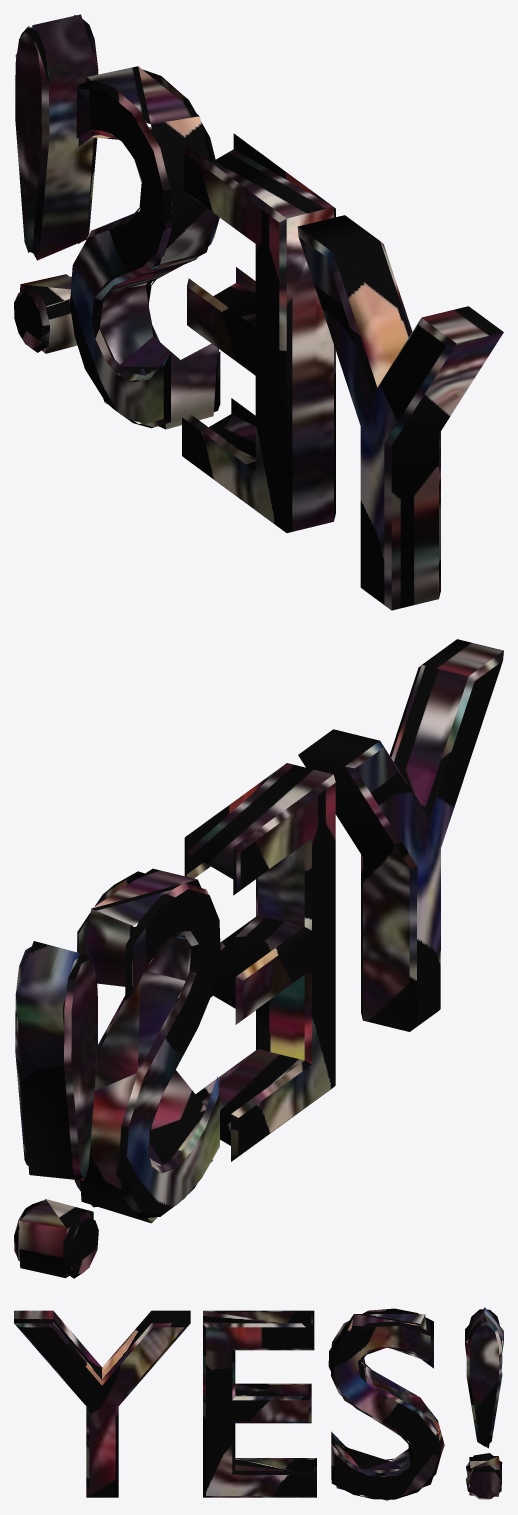
The model's file is yes.dae.
3 renders of one model, top to bottom at view 1: azimuth 30°, elevation 25°; view 2: azimuth 150°, elevation 25°; view 3: azimuth 270°, elevation 25°, orthographic. The views are drawn at different scales.
Parts seen in each view (by area): view 1: Text; view 2: Text; view 3: Text.
Boxes of the visible parts, x1=… form: Text: x1=14, y1=14, x2=503, y2=610; Text: x1=14, y1=639, x2=503, y2=1278; Text: x1=14, y1=1307, x2=503, y2=1500.
Bounding box in the file's own units: 0.0236 × 0.3105 × 0.1265.
1 material, 1 textured.
